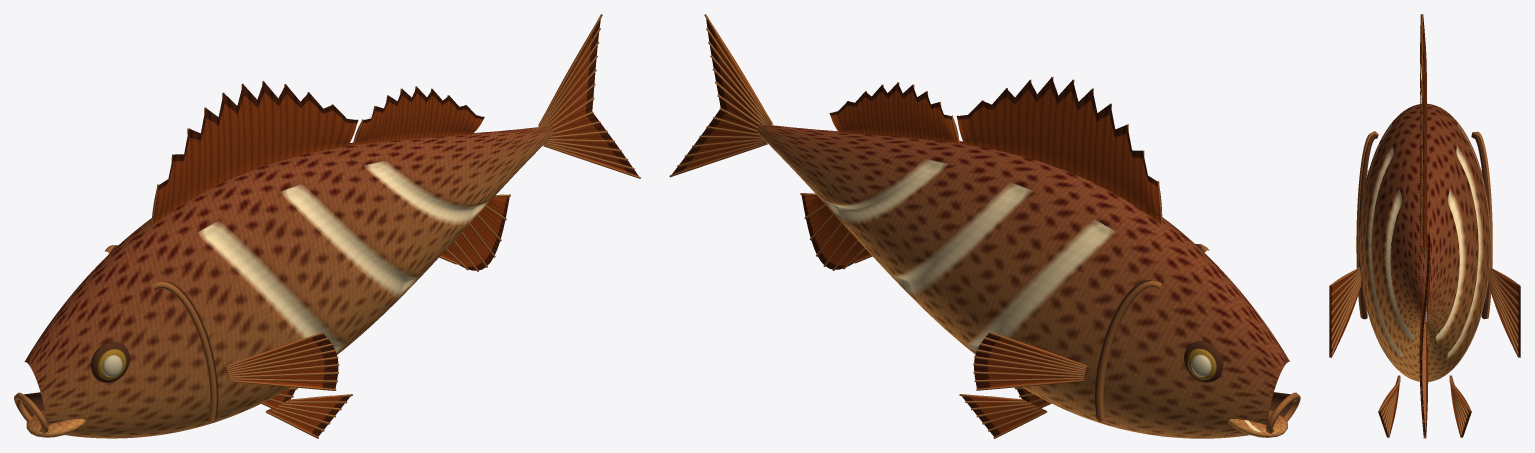
File: seared_cragfin.glb
3 views of the same model, side by side, from view 1: azimuth 30°, elevation 25°; view 2: azimuth 150°, elevation 25°; view 3: azimuth 270°, elevation 25° (orthographic). The views are drawn at different scales.
Parts seen in each view (by area): view 1: Scaled blistered golden roast skin, Fin web roast amber, Fin rays and lip edges, Deep oral cavity; view 2: Scaled blistered golden roast skin, Fin web roast amber, Fin rays and lip edges, Deep oral cavity; view 3: Scaled blistered golden roast skin, Fin rays and lip edges, Fin web roast amber, Deep oral cavity.
Part boxes in pixels (bbox=[...]): Scaled blistered golden roast skin: bbox=[24, 126, 553, 438]; Fin web roast amber: bbox=[152, 18, 638, 437]; Fin rays and lip edges: bbox=[14, 14, 640, 438]; Deep oral cavity: bbox=[21, 245, 218, 425]; Scaled blistered golden roast skin: bbox=[757, 124, 1289, 438]; Fin web roast amber: bbox=[672, 16, 1162, 436]; Fin rays and lip edges: bbox=[669, 14, 1300, 438]; Deep oral cavity: bbox=[1095, 244, 1292, 425]; Scaled blistered golden roast skin: bbox=[1359, 103, 1490, 381]; Fin rays and lip edges: bbox=[1331, 14, 1518, 437]; Fin web roast amber: bbox=[1329, 14, 1520, 438]; Deep oral cavity: bbox=[1359, 133, 1490, 319].
Bounding box in the file's own units: 0.7764 × 0.4296 × 0.1924.
Materials: 6 (2 with a texture image).
